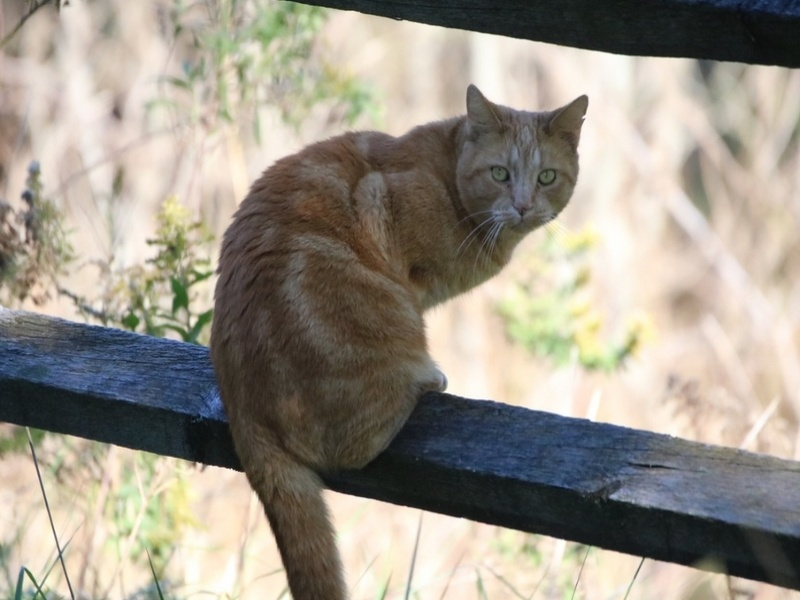cat: (207, 85, 590, 600)
